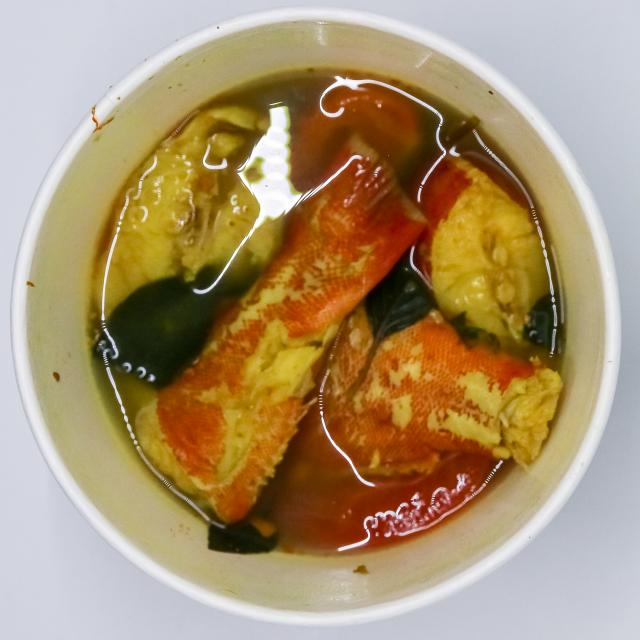Gulai-Ikan-Mas: (110, 102, 568, 561)
